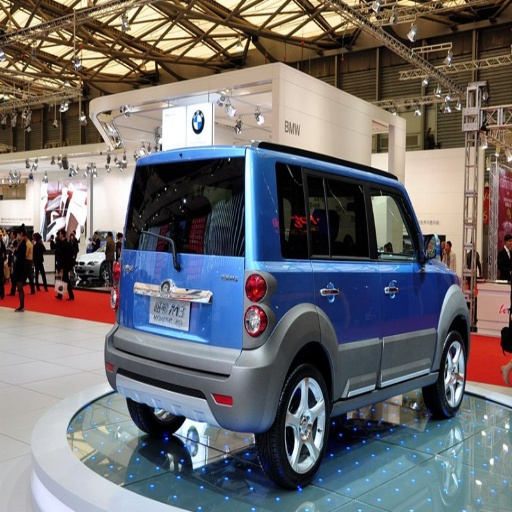back_bumper: (103, 323, 286, 430)
back_right_door: (305, 178, 384, 399)
trunk: (122, 256, 305, 361)
